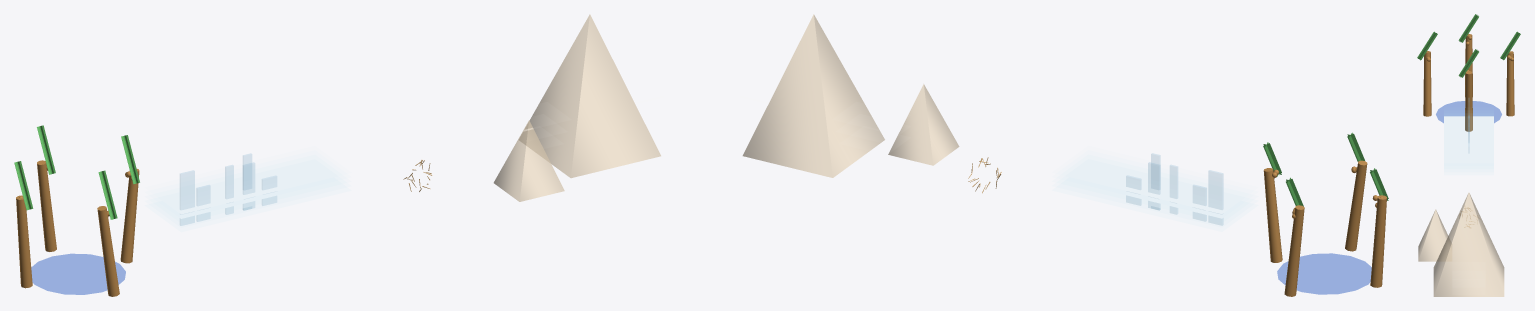
The model's file is scenery_desert_mobile.glb.
3 renders of one model, left to right at view 1: azimuth 30°, elevation 25°; view 2: azimuth 150°, elevation 25°; view 3: azimuth 270°, elevation 25°, orthographic. The views are drawn at different scales.
Parts seen in each view (by area): view 1: pyramidDistance_mesh (×2), palmOasis_mesh (×5), mirage_mesh; view 2: pyramidDistance_mesh (×2), palmOasis_mesh (×5), mirage_mesh (×2); view 3: pyramidDistance_mesh (×2), palmOasis_mesh (×5).
Part boxes in pixels (left/top/right/bottom): pyramidDistance_mesh (×2): left=493, top=14, right=660, bottom=201; palmOasis_mesh (×5): left=16, top=160, right=139, bottom=296; mirage_mesh: left=180, top=170, right=194, bottom=225; pyramidDistance_mesh (×2): left=742, top=14, right=959, bottom=177; palmOasis_mesh (×5): left=1263, top=160, right=1386, bottom=296; mirage_mesh (×2): left=1148, top=162, right=1223, bottom=225; pyramidDistance_mesh (×2): left=1418, top=192, right=1504, bottom=296; palmOasis_mesh (×5): left=1423, top=34, right=1514, bottom=131.
Size of the model in its own units: 30.84 by 6.15 by 6.26.
